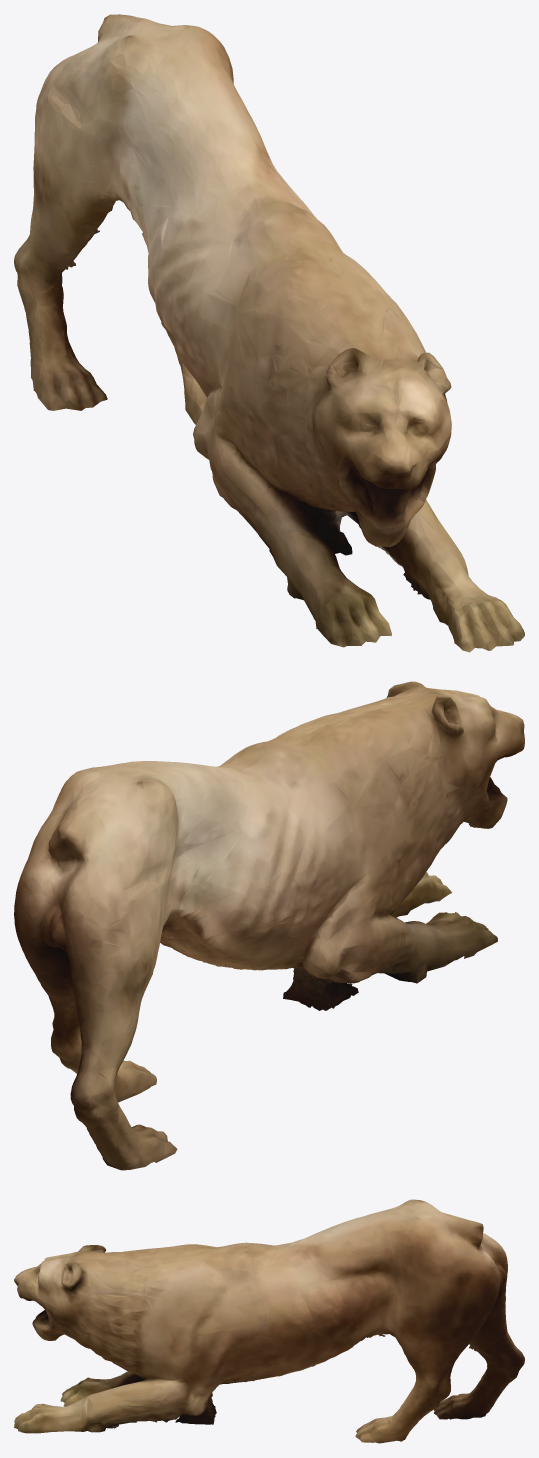
Rendered from leao.glb.
3 views of the same model, one above another, from view 1: azimuth 30°, elevation 25°; view 2: azimuth 150°, elevation 25°; view 3: azimuth 270°, elevation 25° (orthographic). The views are drawn at different scales.
Parts seen in each view (by area): view 1: Object_2; view 2: Object_2; view 3: Object_2.
Boxes of the visible parts, x1,y1,x2,y2 form: Object_2: (14, 14, 524, 652); Object_2: (14, 681, 524, 1170); Object_2: (14, 1199, 524, 1443).
Size of the model in its own units: 1.19 by 2.2 by 4.59.
Materials: 1 (1 with a texture image).
